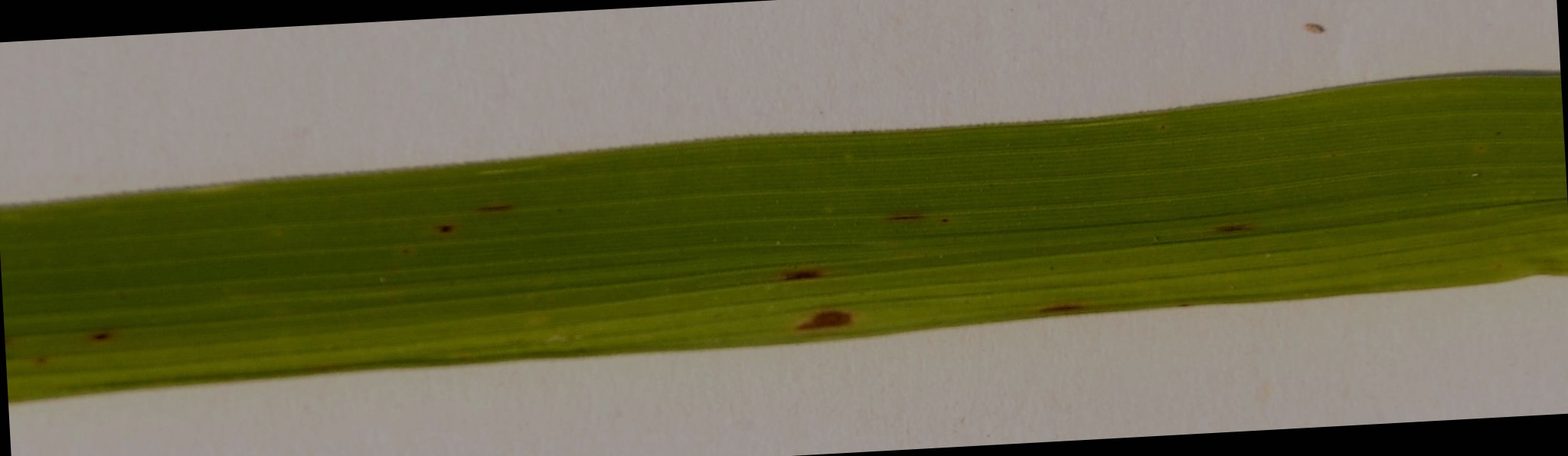Bacterial_Leaf_Blight: (772, 253, 871, 333), (65, 317, 120, 353), (470, 194, 536, 219), (1025, 300, 1099, 314), (420, 216, 457, 238)
